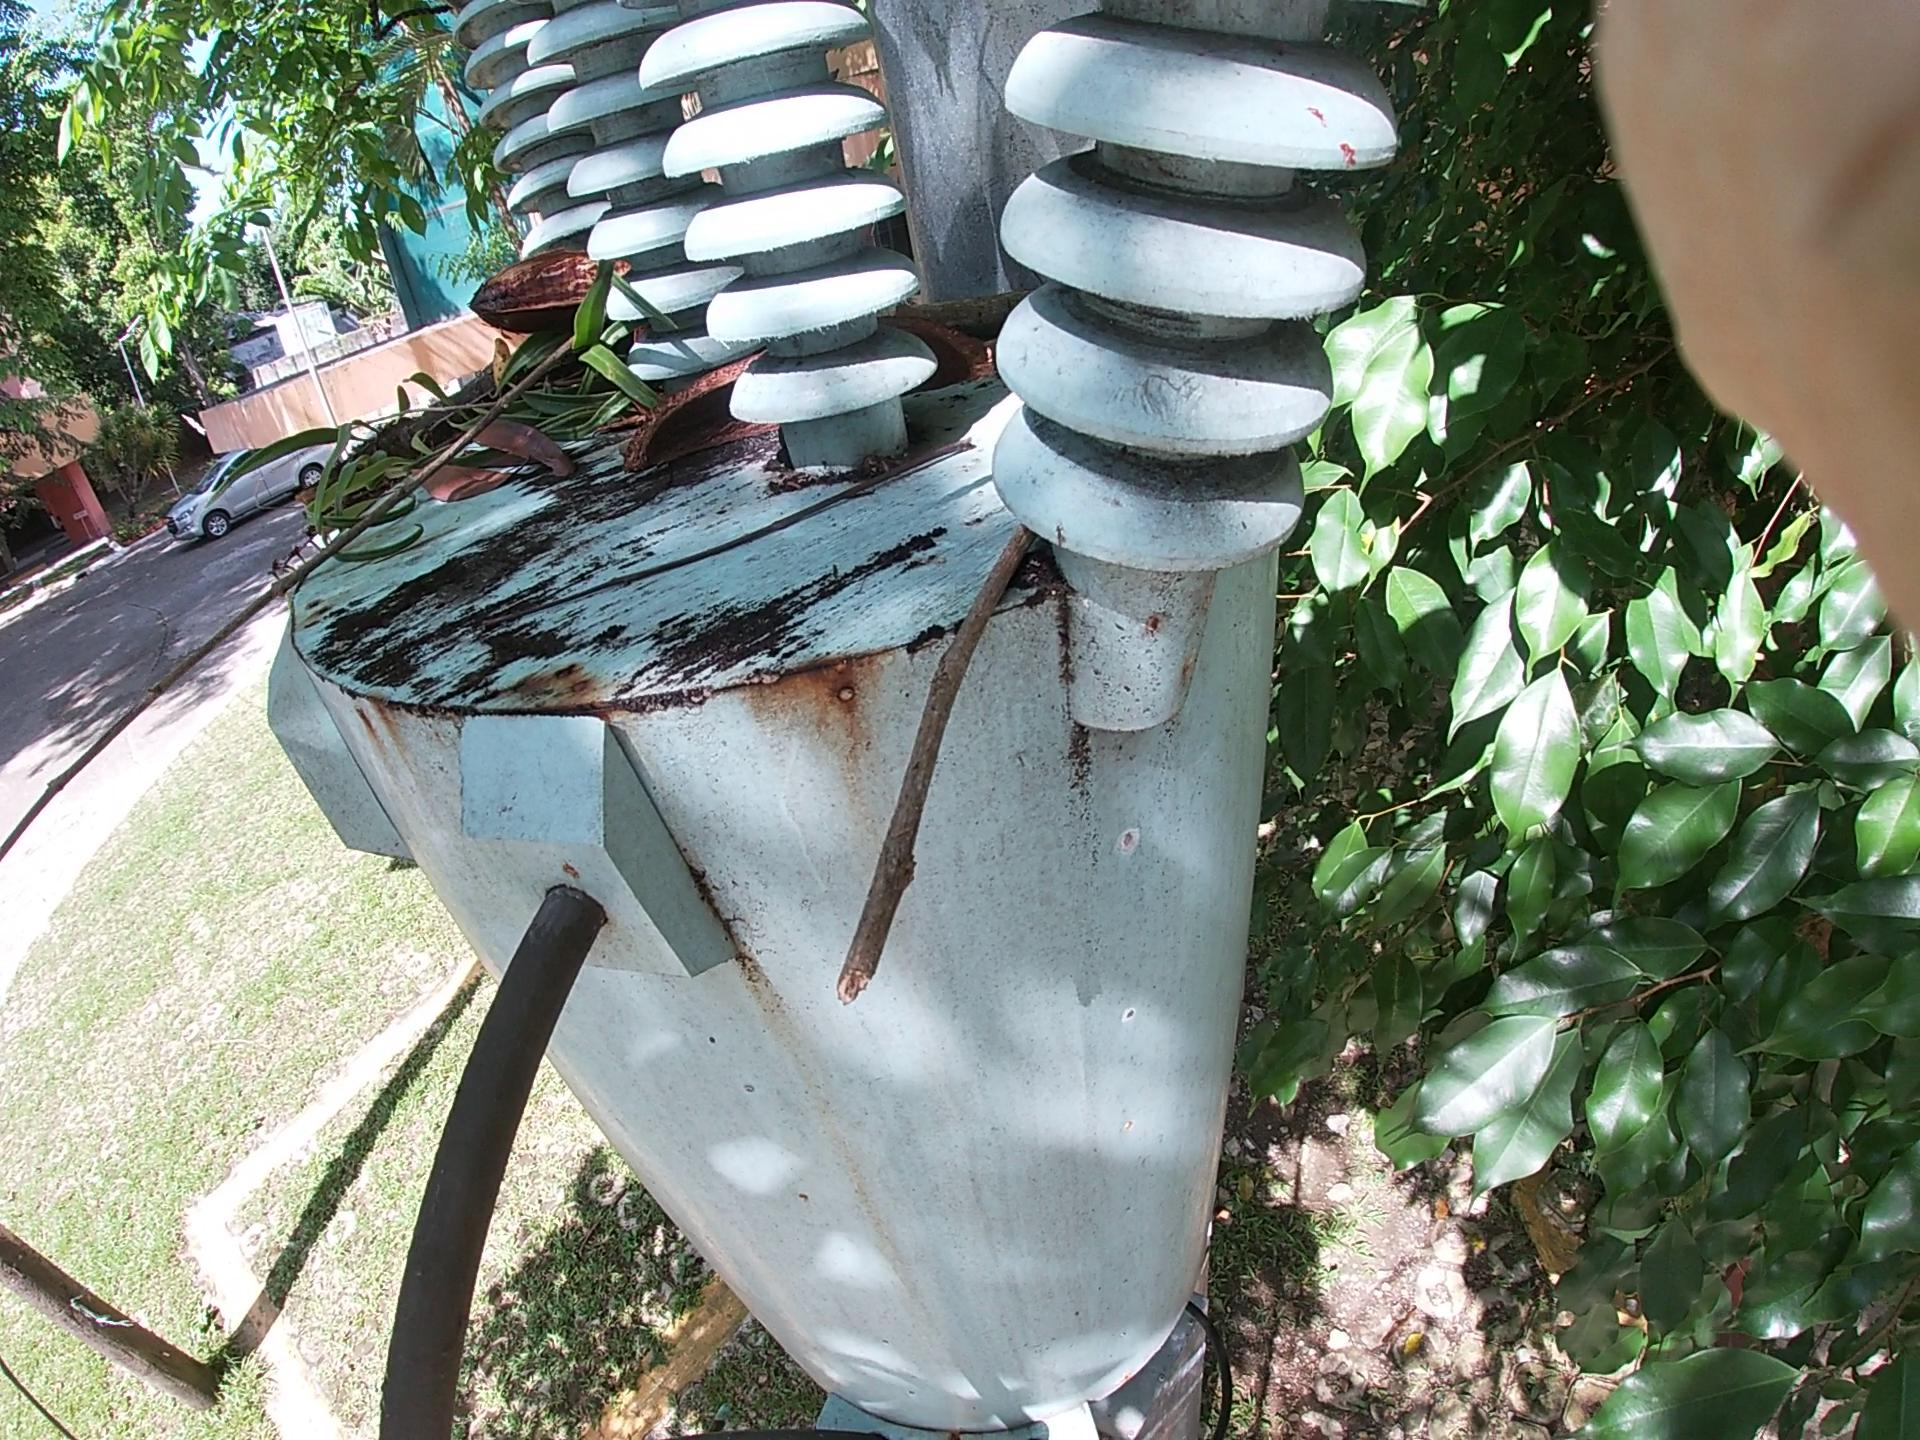branch with leaves: (281, 206, 632, 537)
leaf: (390, 430, 608, 569)
mahogany fruit: (641, 330, 919, 473), (479, 250, 697, 405)
tree branch: (113, 306, 556, 749), (794, 466, 992, 973), (466, 445, 972, 631), (408, 383, 603, 489)
